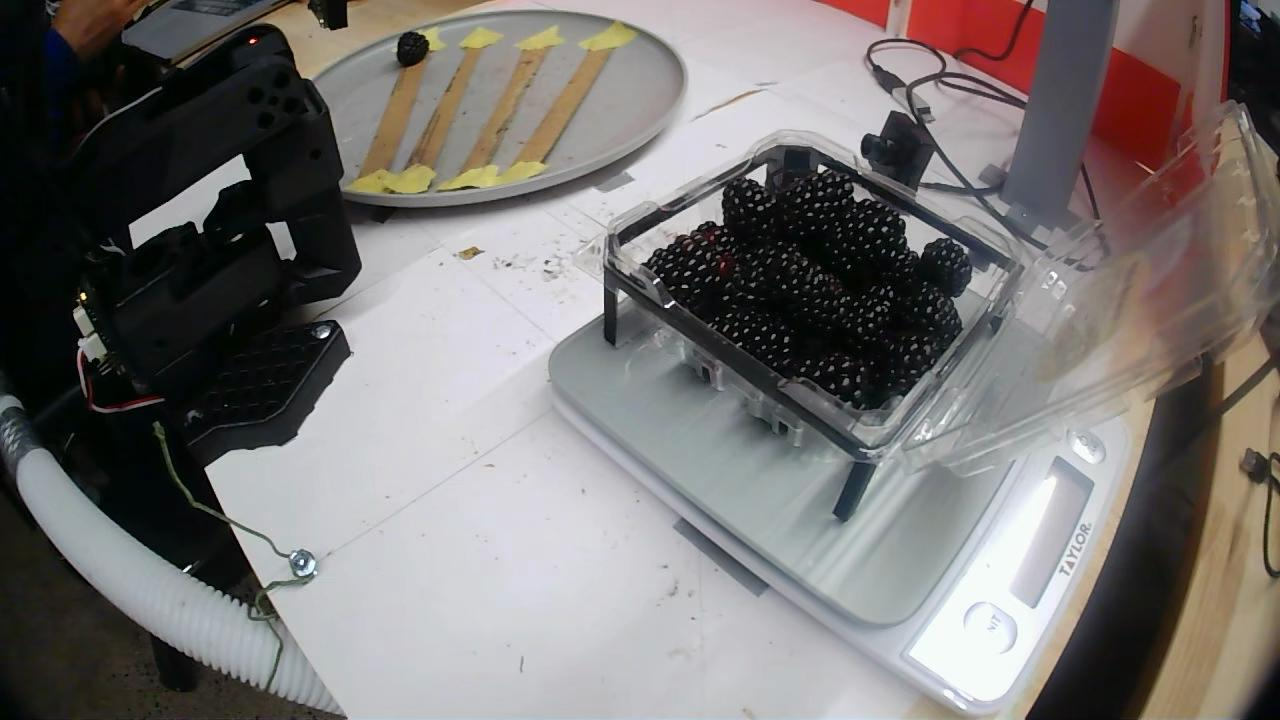berry: (643, 222, 735, 310), (832, 199, 910, 289), (717, 235, 795, 310), (772, 170, 858, 236), (711, 303, 790, 372), (895, 272, 962, 339), (794, 350, 872, 407), (837, 285, 898, 356), (885, 328, 948, 396), (785, 252, 842, 321), (916, 238, 972, 297), (723, 178, 772, 239), (396, 31, 429, 67)
